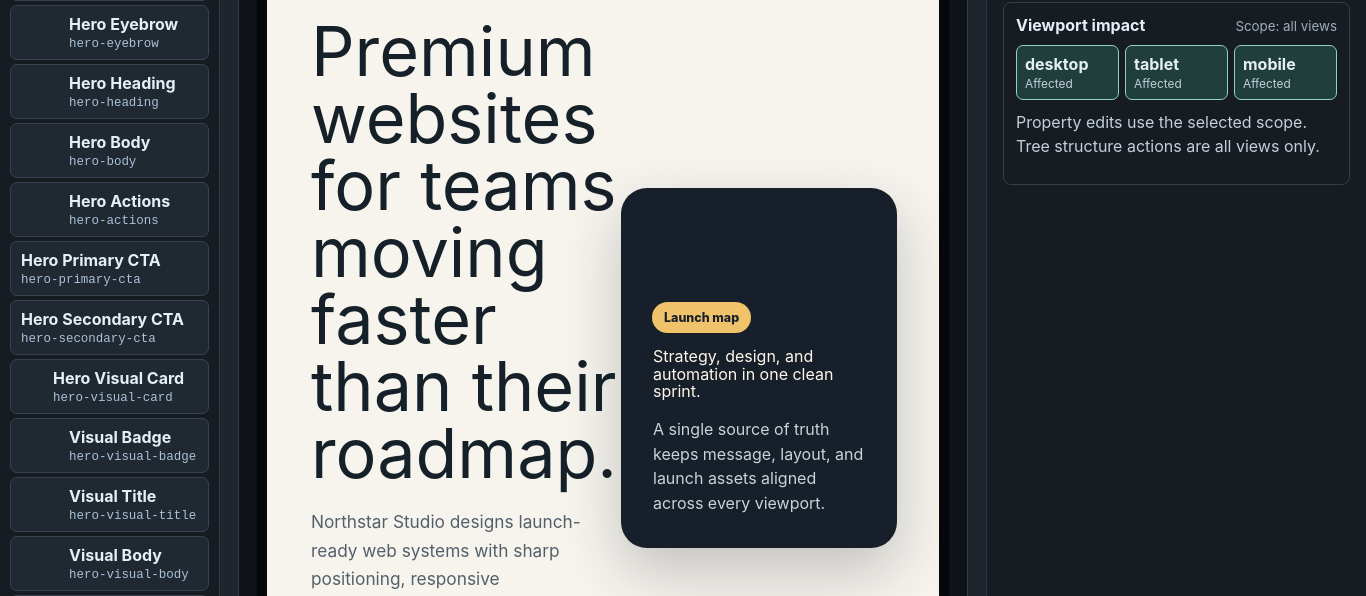
Scenario: EditorShell › selects the exact canvas element without selecting its parent
(page scrolled)
Click the heading "Premium websites for teams moving faster than their roadmap.": (464, 252) [310, 17, 618, 488]
(page scrolled)
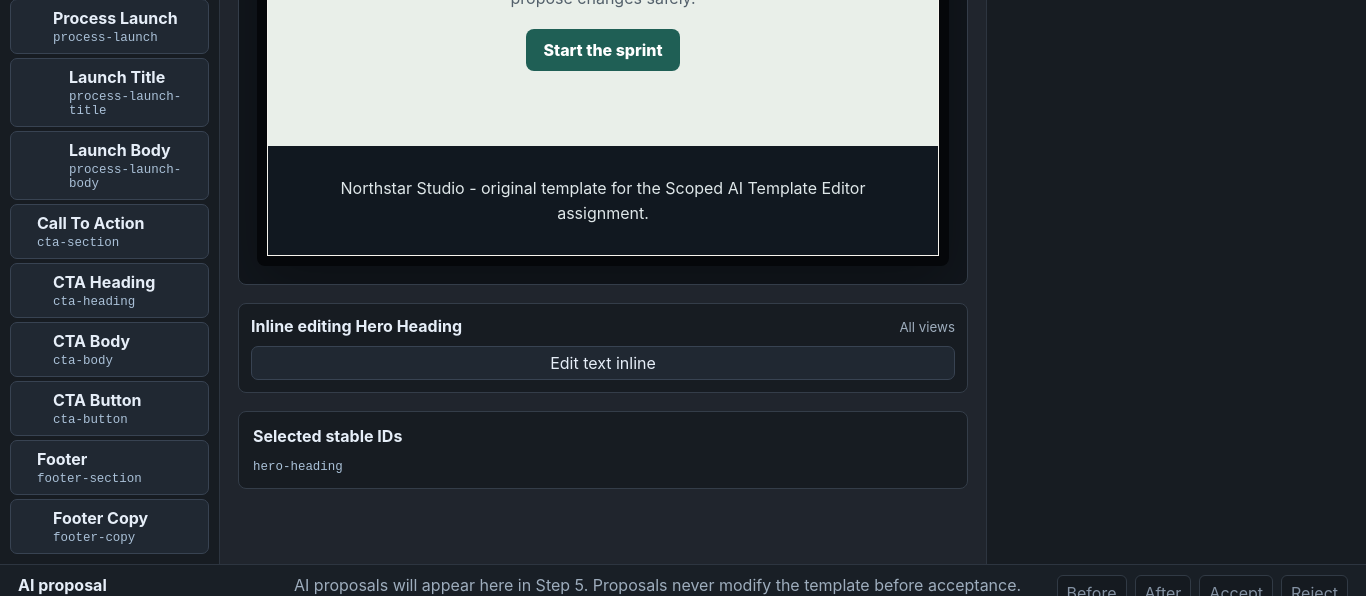
Expected: the text "hero-copy-stack" is not shown
Expected: the text "hero-heading" is shown, [253, 460, 343, 474]
